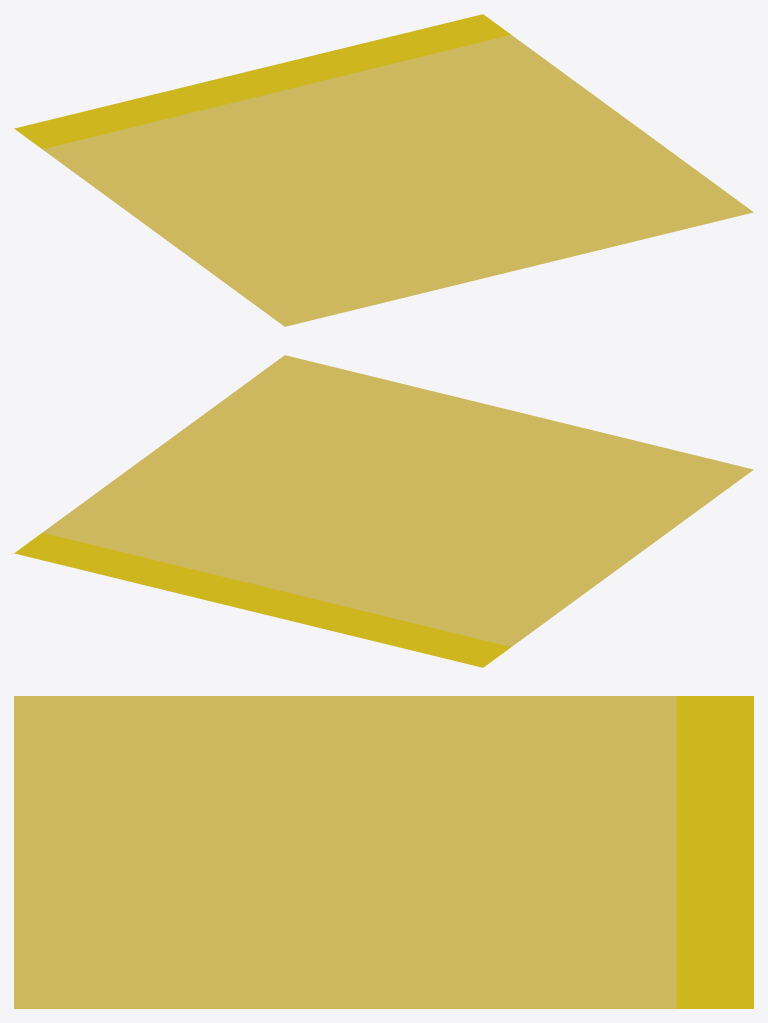
The model's file is postit.fbx.
3 renders of one model, top to bottom at view 1: azimuth 30°, elevation 25°; view 2: azimuth 150°, elevation 25°; view 3: azimuth 270°, elevation 25°, orthographic. The views are drawn at different scales.
Parts seen in each view (by area): view 1: Post-it; view 2: Post-it; view 3: Post-it.
Part boxes in pixels (x1,y1,x2,y2): Post-it: (14,14,753,326); Post-it: (14,355,753,667); Post-it: (14,696,753,1008).
Size of the model in its own units: 77.1 by 1.26e-05 by 77.1.
